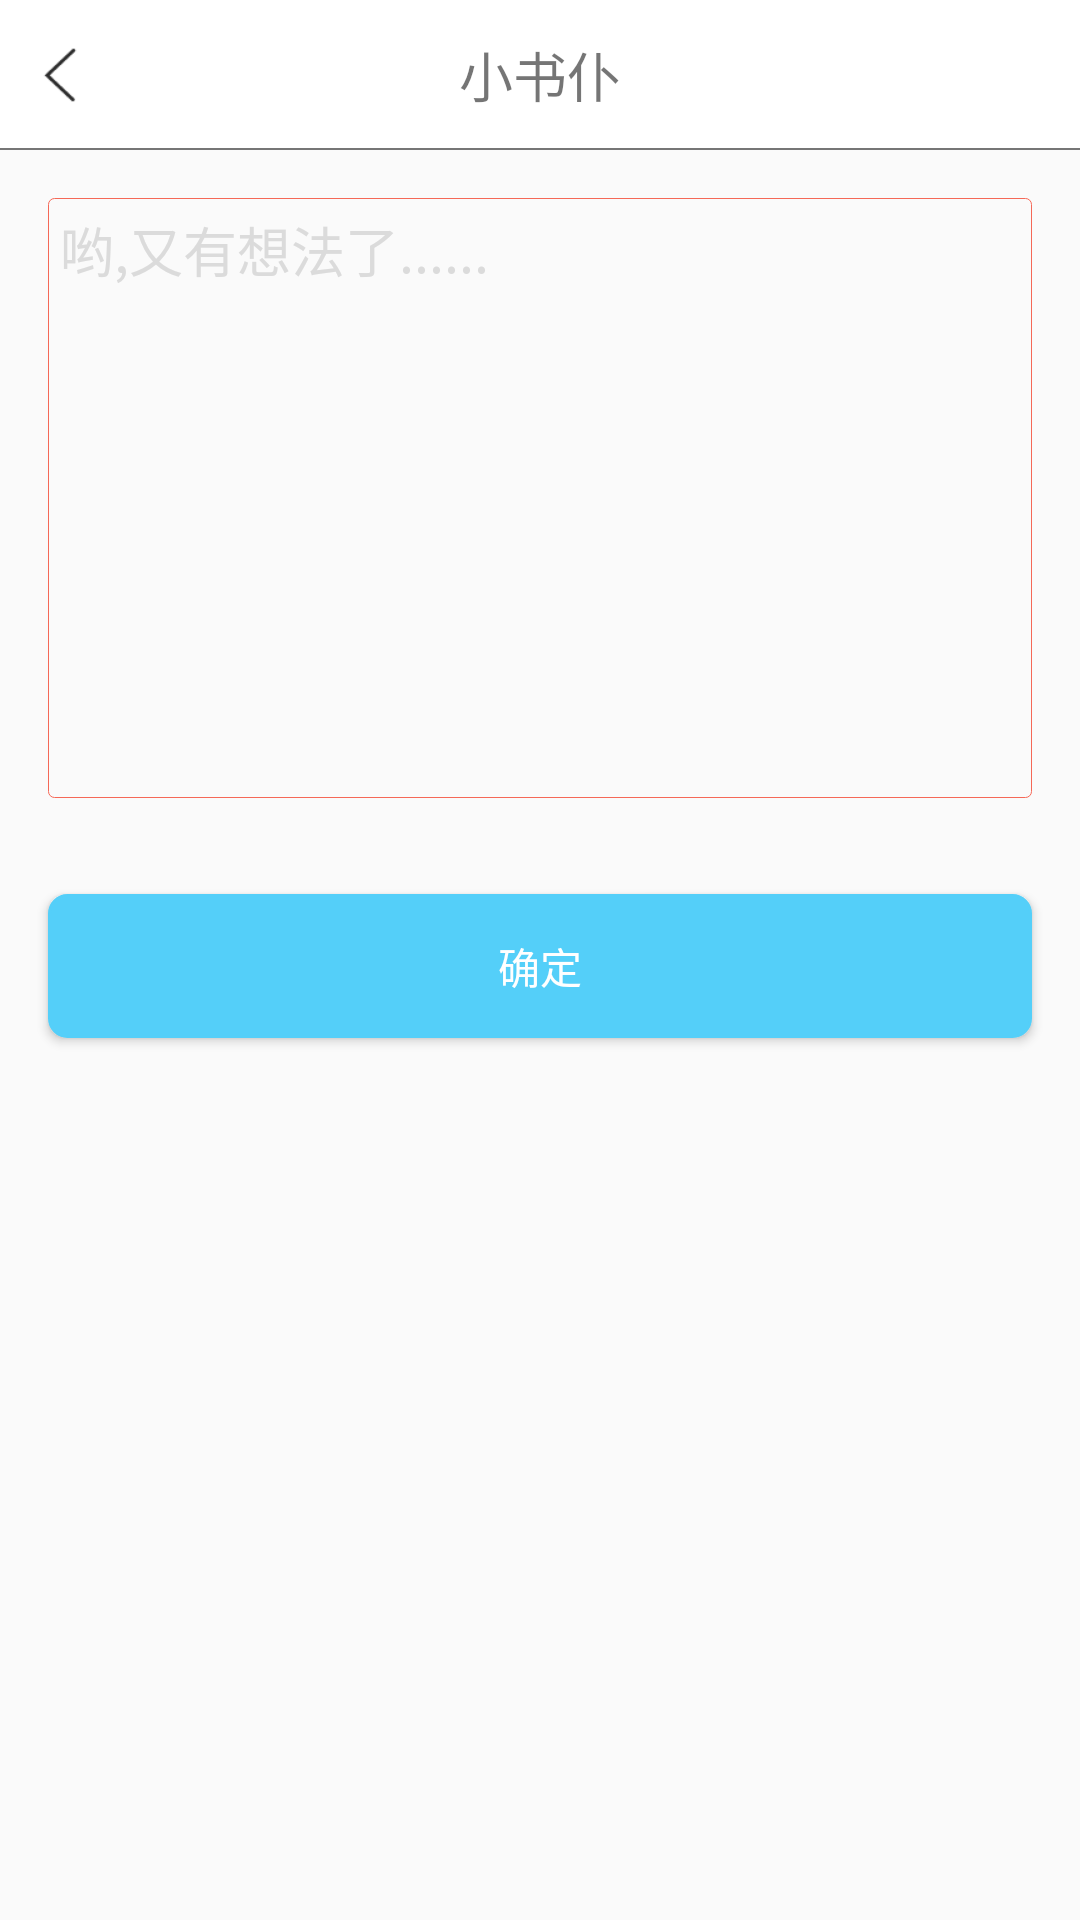

Named icons in this screenshot (1080px x 1920px) and their bounding boxes, (x1, y1, x2, y2):
back: (44, 48, 76, 102)
